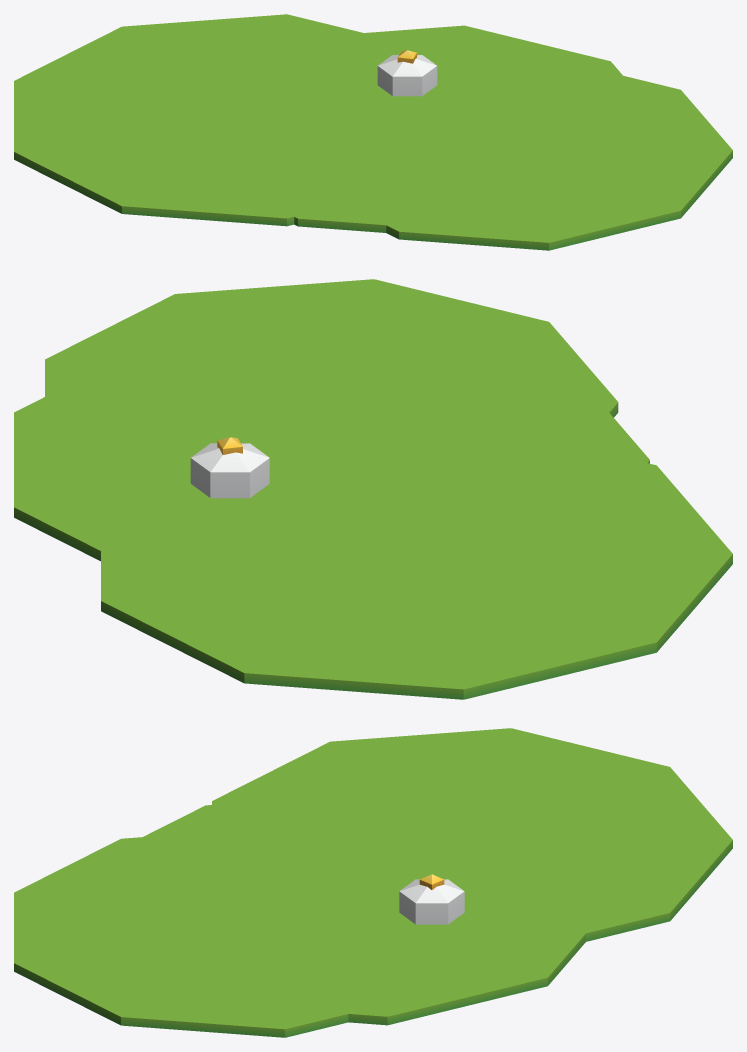
File: lily_pads.glb
3 renders of one model, top to bottom at view 1: azimuth 30°, elevation 25°; view 2: azimuth 150°, elevation 25°; view 3: azimuth 270°, elevation 25°, orthographic. The views are drawn at different scales.
Parts seen in each view (by area): view 1: lily_pads; view 2: lily_pads; view 3: lily_pads.
Boxes of the visible parts, x1,y1,x2,y2 form: lily_pads: (14, 14, 732, 250); lily_pads: (14, 279, 732, 699); lily_pads: (14, 728, 732, 1037).
Size of the model in its own units: 1.51 by 0.125 by 1.53.
1 material, 1 textured.
